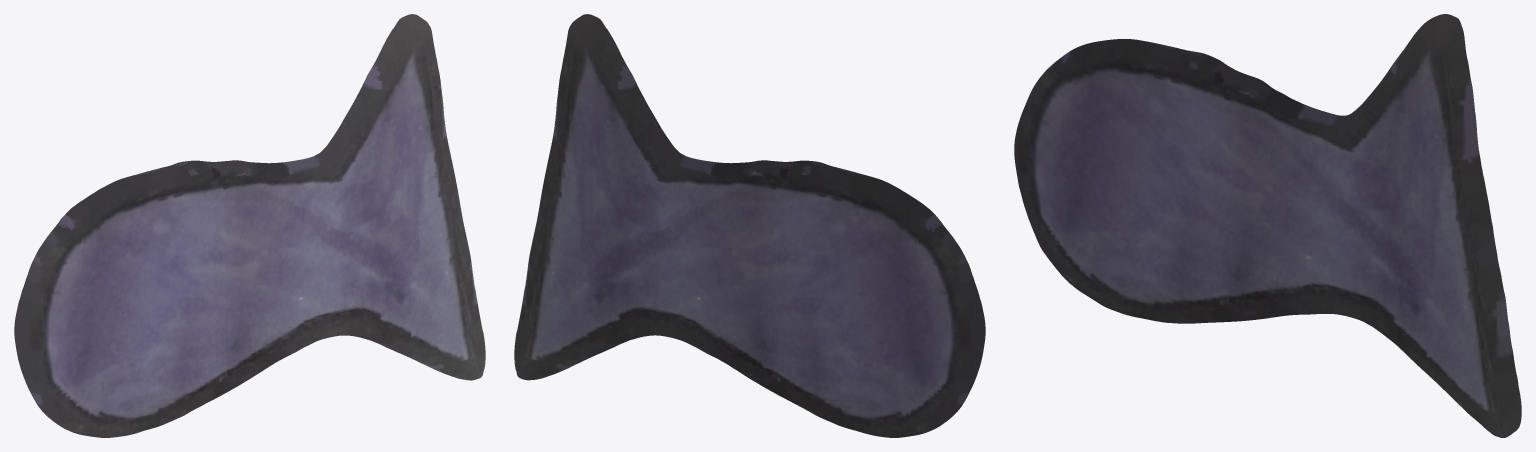
Rendered from p_mesh_fish_test.gltf.
3 views of the same model, side by side, from view 1: azimuth 30°, elevation 25°; view 2: azimuth 150°, elevation 25°; view 3: azimuth 330°, elevation 25° (orthographic). The views are drawn at different scales.
Size of the model in its own units: 0.0392 by 0.0299 by 0.002.
